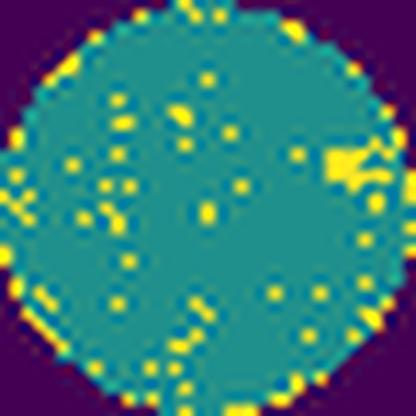Loc: (323, 140, 398, 190)
